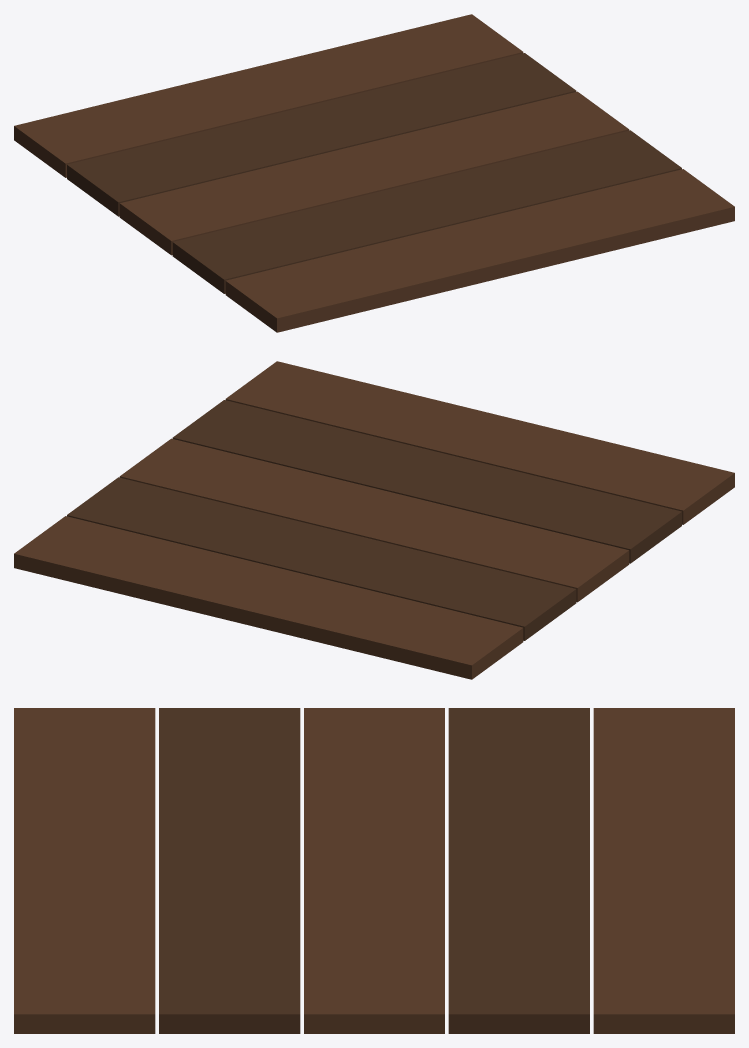
Rendered from floor_tile.obj.
3 views of the same model, one above another, from view 1: azimuth 30°, elevation 25°; view 2: azimuth 150°, elevation 25°; view 3: azimuth 270°, elevation 25° (orthographic). The views are drawn at different scales.
Visible parts, largest first — view 1: floor_tile; view 2: floor_tile; view 3: floor_tile.
Part boxes in pixels (left/top/right/bottom): floor_tile: left=14, top=14, right=734, bottom=332; floor_tile: left=14, top=361, right=734, bottom=679; floor_tile: left=14, top=708, right=734, bottom=1033.
Size of the model in its own units: 1 by 0.03 by 0.995.
